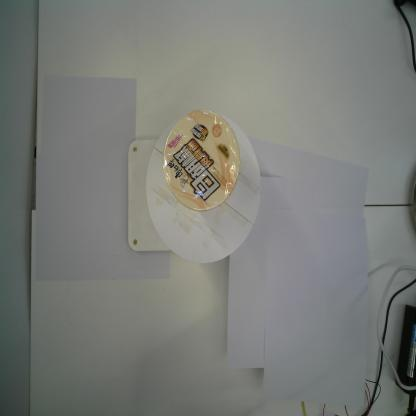Instant Noodles: (162, 109, 241, 213)
